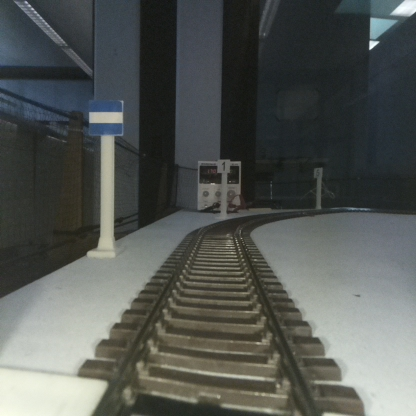start: (89, 99, 122, 254)
white-info-1: (217, 158, 230, 216)
